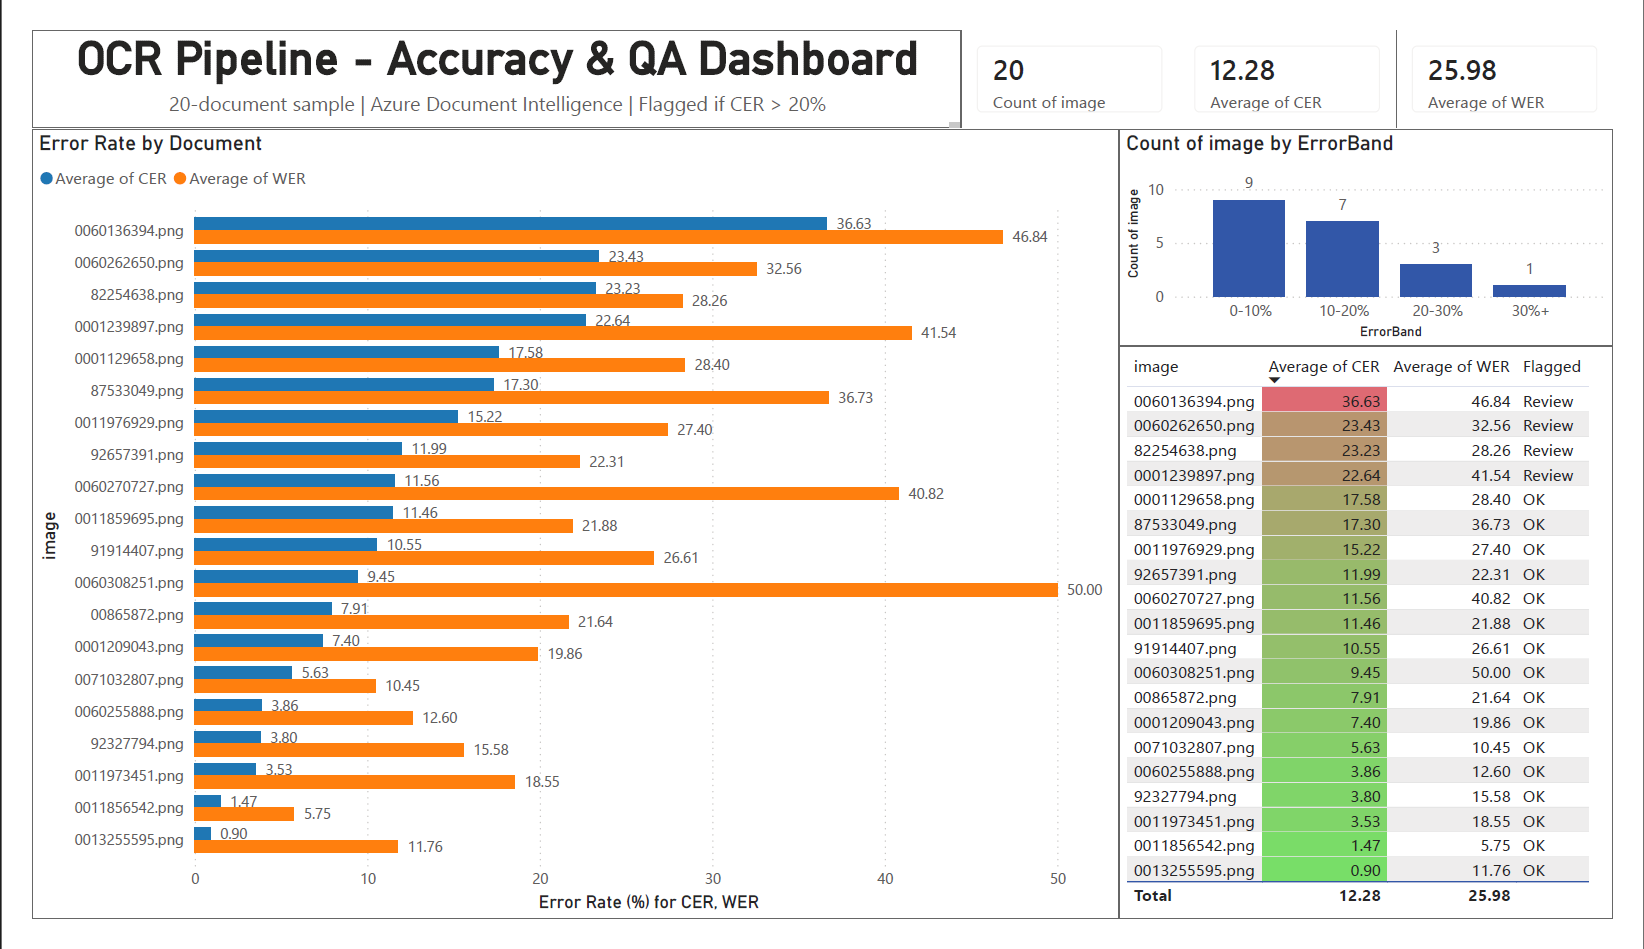

This screenshot's page, from the dashboard's own definition file:
{"tool":"powerbi","page":{"name":"Page 1","canvas":[1280,720],"ordinal":0},"visuals":[{"type":"clusteredBarChart","title":"Error Rate by Document","fields":{"Category":["data.image"],"Y":["Avg(data.cer)","Avg(data.wer)"]},"box":[0,80,880,640],"z":0},{"type":"cardVisual","fields":{"Data":["Avg(data.cer)"]},"box":[928,0,176,80],"z":1000},{"type":"cardVisual","fields":{"Data":["Avg(data.wer)"]},"box":[1104,0,176,80],"z":2000},{"type":"cardVisual","fields":{"Data":["CountNonNull(data.image)"]},"box":[752,0,176,80],"z":3000},{"type":"tableEx","fields":{"Values":["data.image","Avg(data.CER)","Avg(data.WER)","data.Flagged"]},"box":[880,256,400,464],"z":4000},{"type":"clusteredColumnChart","fields":{"Category":["data.ErrorBand"],"Y":["CountNonNull(data.image)"]},"box":[880,80,400,176],"z":5000},{"type":"textbox","title":"OCR Pipeline - Accuracy & QA Dashboard","box":[0,0,752,80],"z":6000}]}

Visuals, with their boxes in screenshot pixels (x1, y1, x2, y2), scaled from the page's 1280x720 canvas onto the 1644x949 screenshot:
"Error Rate by Document" clusteredBarChart: Rect(0, 105, 1130, 948)
cardVisual - Avg(data.cer): Rect(1192, 0, 1418, 105)
cardVisual - Avg(data.wer): Rect(1418, 0, 1643, 105)
cardVisual - CountNonNull(data.image): Rect(966, 0, 1192, 105)
tableEx - data.image x Avg(data.CER): Rect(1130, 337, 1643, 948)
clusteredColumnChart - data.ErrorBand x CountNonNull(data.image): Rect(1130, 105, 1643, 337)
"OCR Pipeline - Accuracy & QA Dashboard" textbox: Rect(0, 0, 966, 105)
